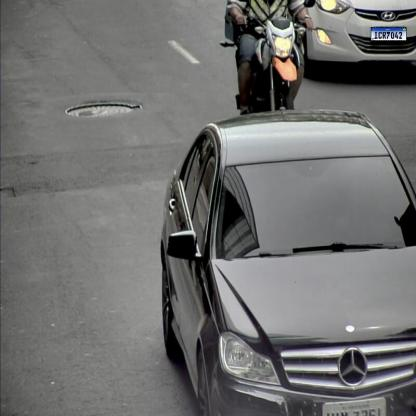PlacaM: (370, 27, 406, 41)
